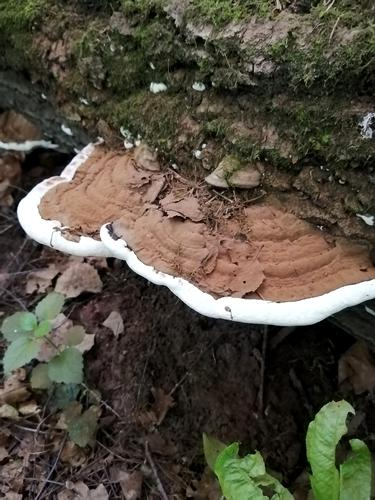Ganoderma - Fruit Body: (10, 144, 375, 327)
